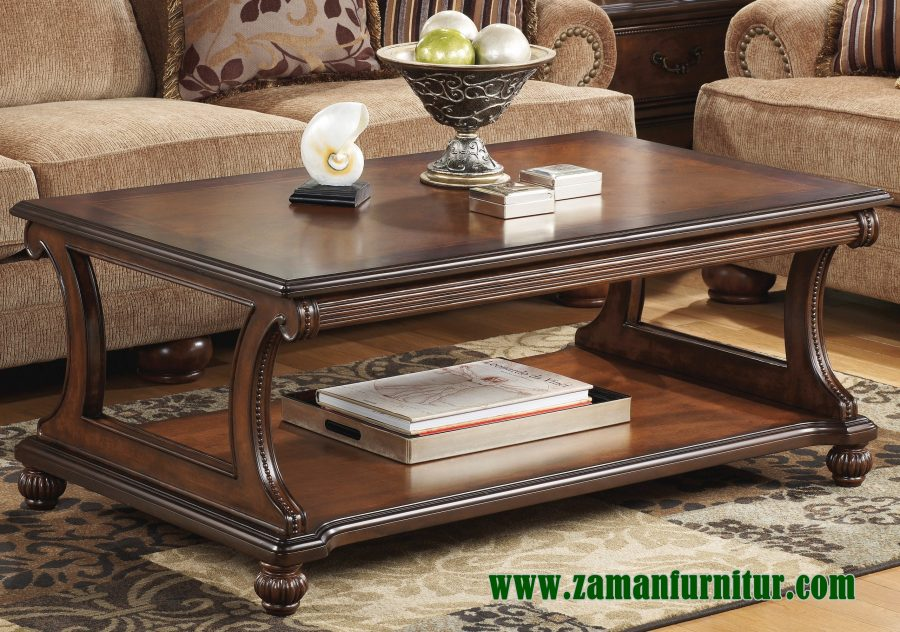Carving Table: (33, 136, 859, 552)
